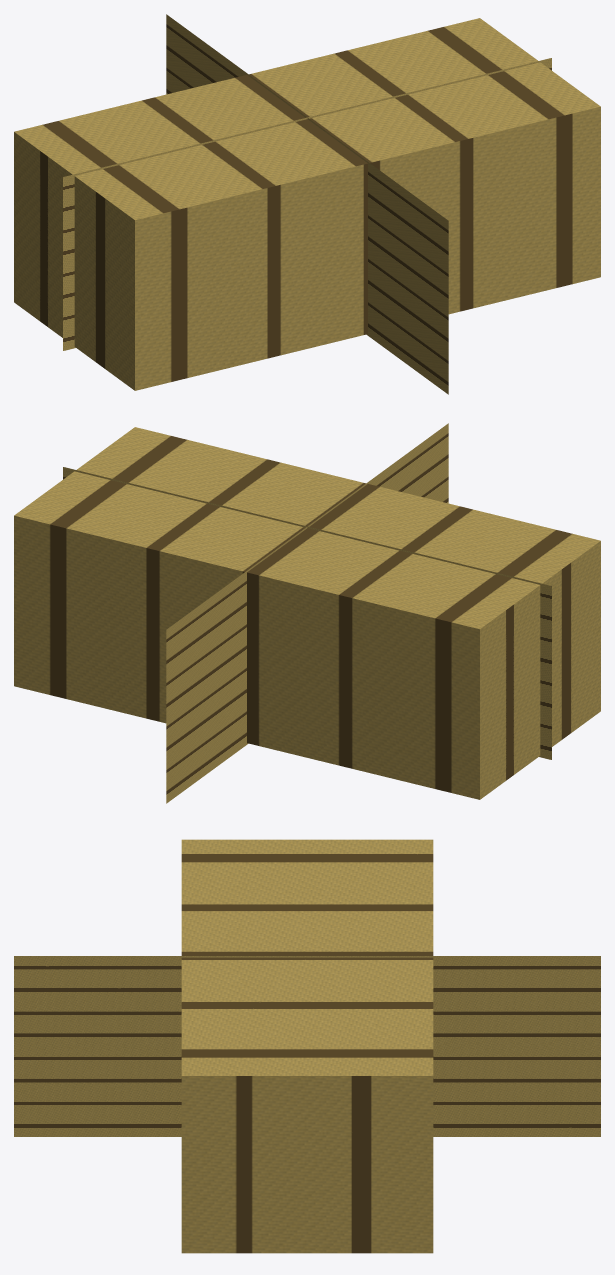
File: haybale_rect_dry.dae
3 renders of one model, top to bottom at view 1: azimuth 30°, elevation 25°; view 2: azimuth 150°, elevation 25°; view 3: azimuth 270°, elevation 25°, orthographic. The views are drawn at different scales.
Visible parts, largest first — view 1: haybale_rect_dry_a800, haybale_rect_dry_a50, haybale_rect_dry_a200; view 2: haybale_rect_dry_a800, haybale_rect_dry_a200, haybale_rect_dry_a50; view 3: haybale_rect_dry_a800, haybale_rect_dry_a50.
Boxes of the visible parts, x1,y1,x2,y2 form: haybale_rect_dry_a800: [14, 18, 600, 390]; haybale_rect_dry_a50: [63, 14, 551, 394]; haybale_rect_dry_a200: [14, 132, 131, 332]; haybale_rect_dry_a800: [14, 427, 600, 799]; haybale_rect_dry_a200: [15, 629, 597, 798]; haybale_rect_dry_a50: [63, 423, 551, 803]; haybale_rect_dry_a800: [181, 839, 433, 1253]; haybale_rect_dry_a50: [14, 956, 600, 1136].
Bounding box in the file's own units: 1.05 × 1.05 × 0.357.
Materials: 2 (1 with a texture image).
